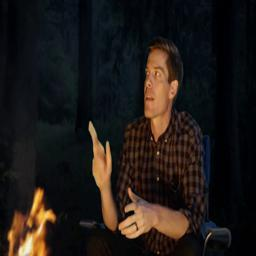fire: (7, 187, 55, 256)
